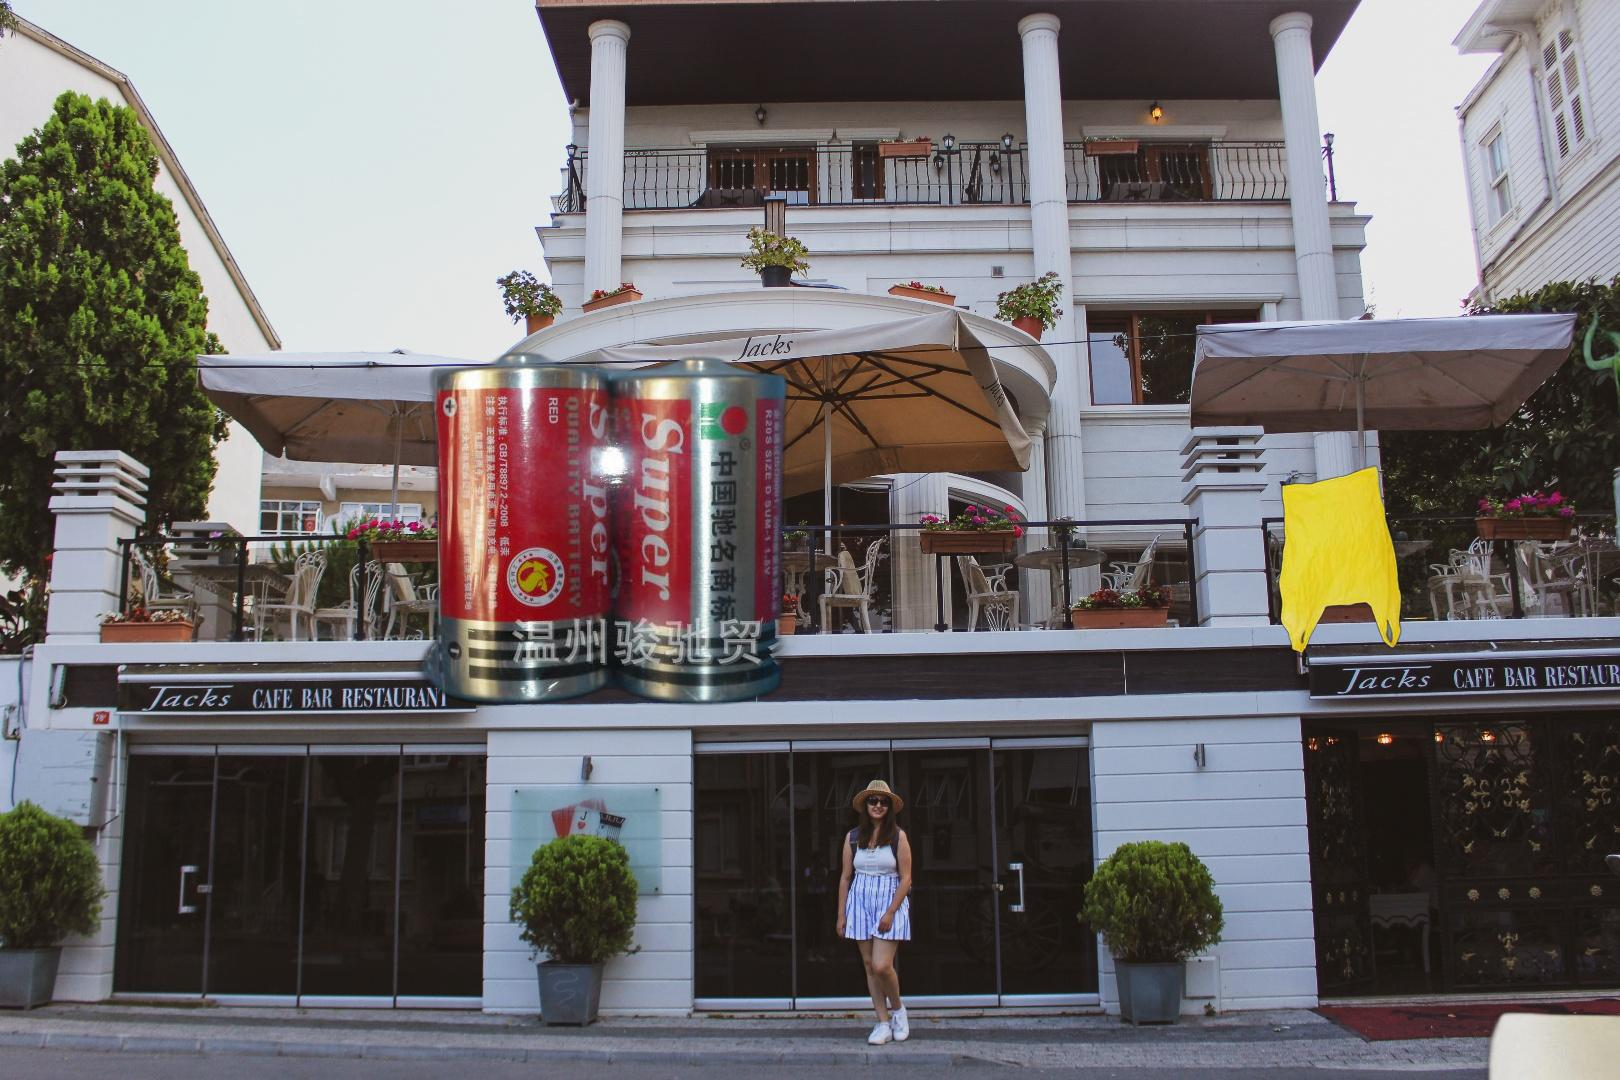battery: (407, 348, 809, 711)
biological: (1577, 229, 1620, 423)
paper: (1481, 970, 1620, 1080)
plastic-bag: (1275, 463, 1405, 655)
